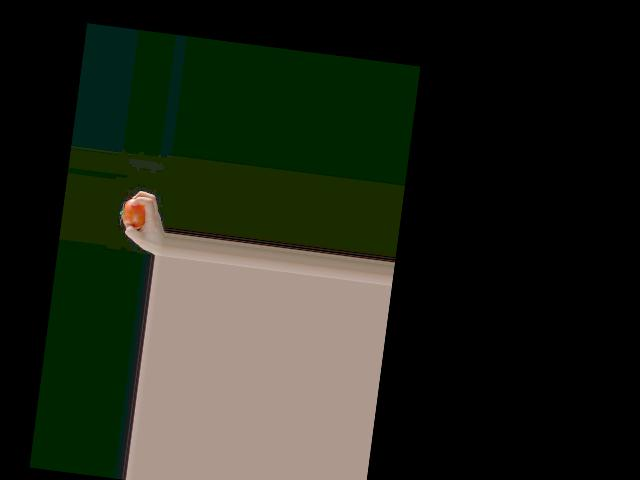tomato: (118, 198, 147, 230)
